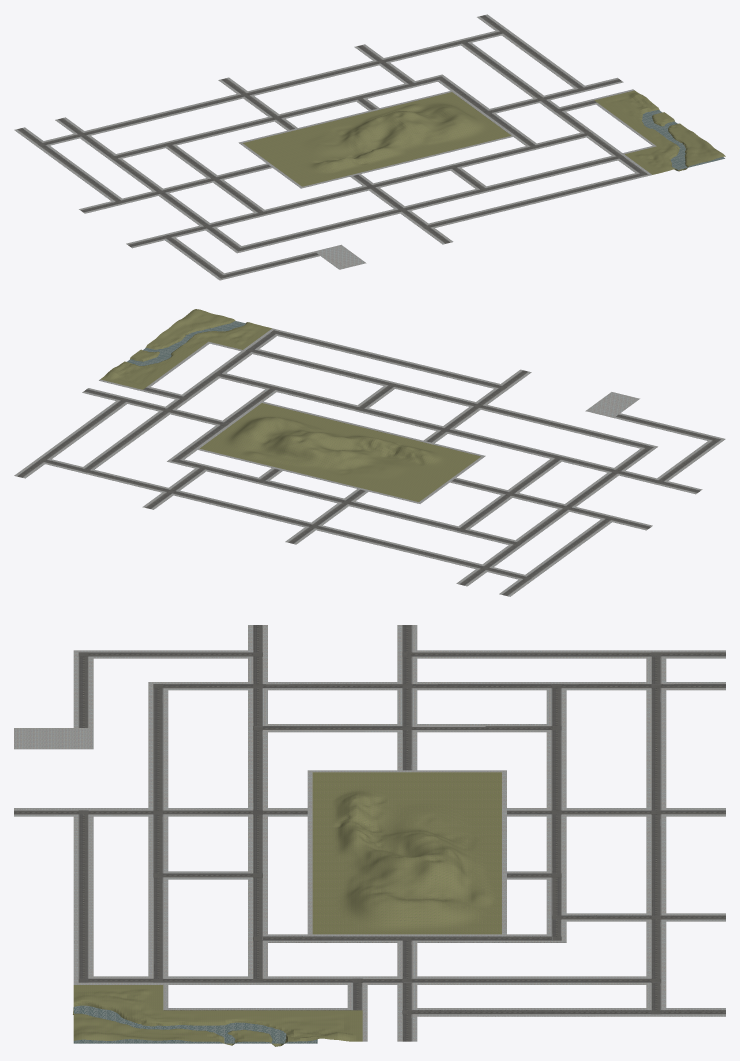
The model's file is stratenplan 3.fbx.
3 views of the same model, one above another, from view 1: azimuth 30°, elevation 25°; view 2: azimuth 150°, elevation 25°; view 3: azimuth 270°, elevation 25° (orthographic). The views are drawn at different scales.
Parts seen in each view (by area): view 1: Plane.002, Plane, Plane.004, Plane.001, Plane.003; view 2: Plane.002, Plane, Plane.004, Plane.001, Plane.003; view 3: Plane.002, Plane, Plane.004, Plane.001, Plane.003.
Part boxes in pixels (box(x1,y1,x2,y2)): Plane.002: box(14, 14, 656, 280); Plane: box(17, 15, 647, 278); Plane.004: box(243, 92, 511, 186); Plane.001: box(594, 90, 725, 174); Plane.003: box(642, 110, 724, 170); Plane.002: box(14, 328, 725, 596); Plane: box(17, 330, 720, 595); Plane.004: box(200, 403, 480, 501); Plane.001: box(100, 309, 271, 389); Plane.003: box(127, 321, 245, 365); Plane.002: box(14, 625, 725, 1041); Plane: box(14, 625, 725, 1041); Plane.004: box(312, 772, 501, 934); Plane.001: box(73, 985, 362, 1046); Plane.003: box(73, 1005, 317, 1043).
Size of the model in its own units: 198 by 6.73 by 143.
